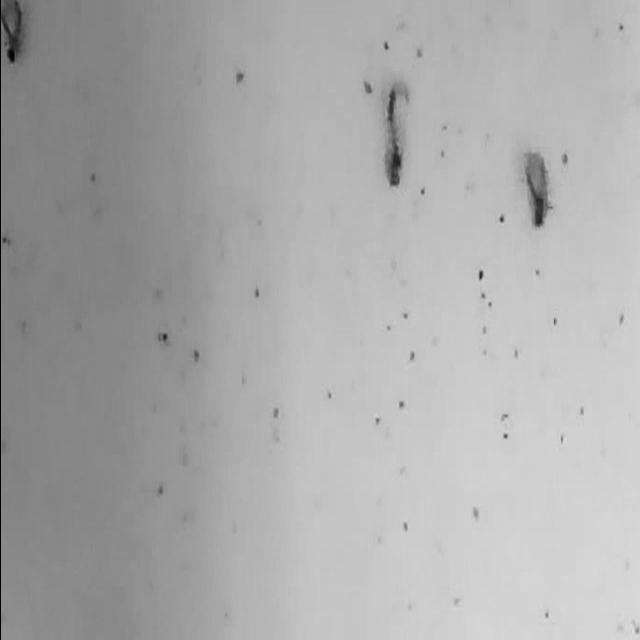larvas: (383, 76, 409, 188), (522, 148, 550, 228), (0, 0, 24, 63)
